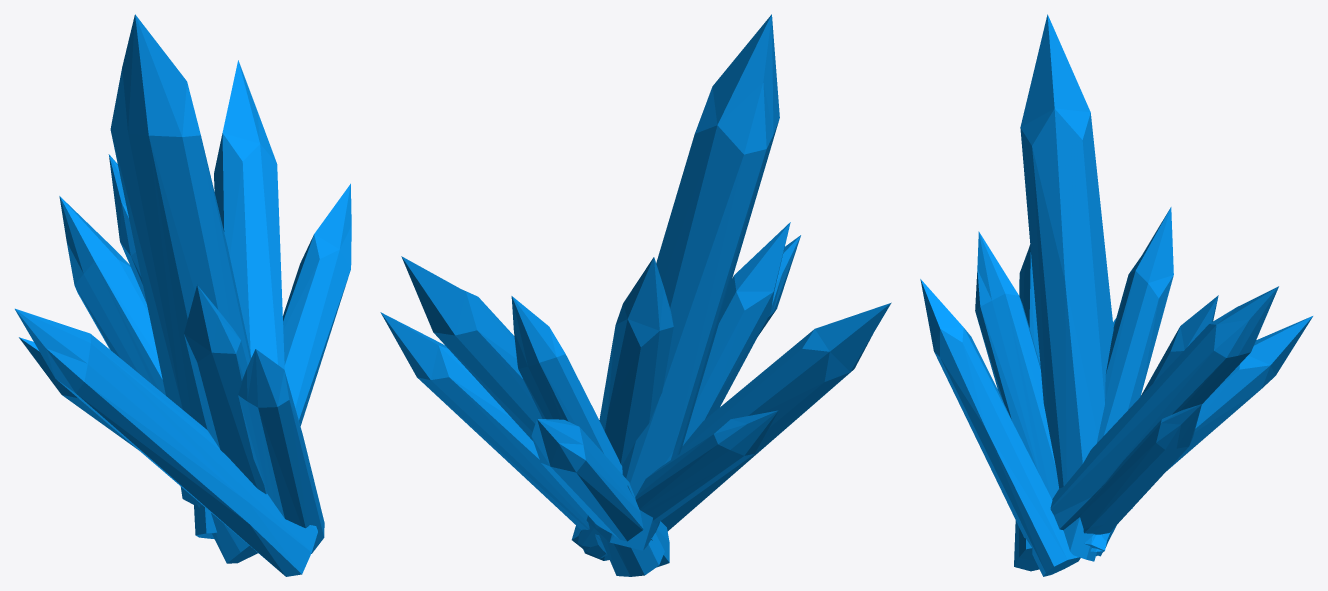
Rendered from SP_Crystal01.fbx.
3 views of the same model, side by side, from view 1: azimuth 30°, elevation 25°; view 2: azimuth 150°, elevation 25°; view 3: azimuth 270°, elevation 25° (orthographic). The views are drawn at different scales.
Visible parts, largest first — view 1: SP_Crystal01; view 2: SP_Crystal01; view 3: SP_Crystal01.
Boxes of the visible parts, bbox=[...] form: SP_Crystal01: bbox=[15, 14, 351, 576]; SP_Crystal01: bbox=[380, 14, 891, 576]; SP_Crystal01: bbox=[920, 14, 1312, 576].
Bounding box in the file's own units: 87.98 × 116 × 82.71.
1 material, 1 textured.
